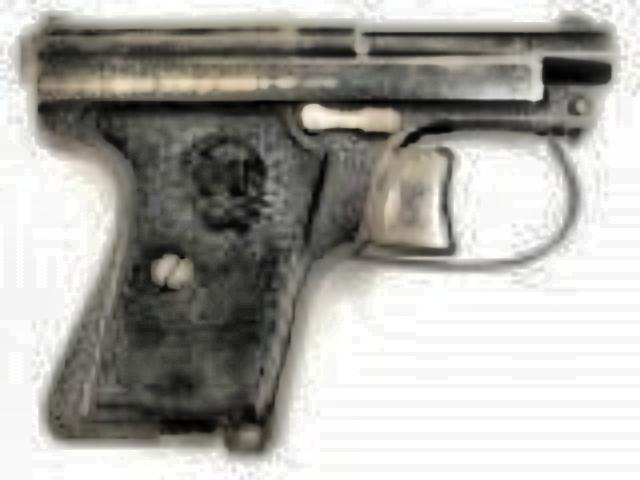pistol: (16, 8, 608, 444)
